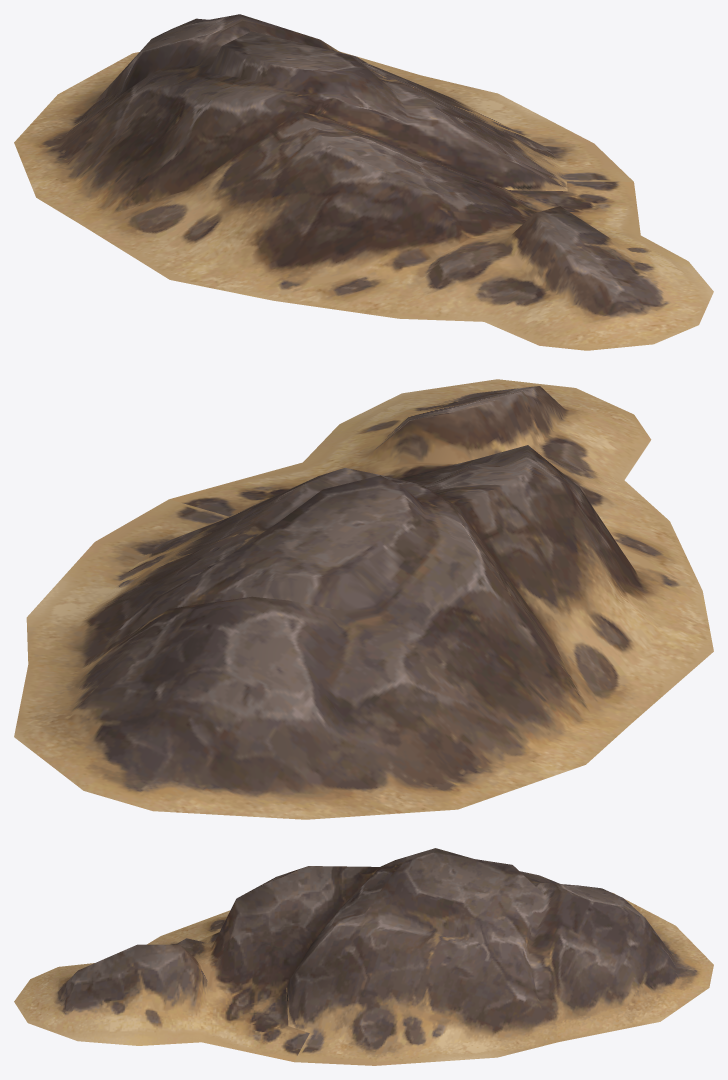
The model's file is xsm_shitou_6.FBX.
The picture shows the model from 3 angles, top to bottom: view 1: azimuth 30°, elevation 25°; view 2: azimuth 150°, elevation 25°; view 3: azimuth 270°, elevation 25°; orthographic projection. The views are drawn at different scales.
Parts seen in each view (by area): view 1: xsm_shitou_6; view 2: xsm_shitou_6; view 3: xsm_shitou_6.
Boxes of the visible parts, <box> form: xsm_shitou_6: <box>14,14,713,350</box>; xsm_shitou_6: <box>14,379,713,819</box>; xsm_shitou_6: <box>14,848,713,1065</box>.
Size of the model in its own units: 106 by 26.14 by 166.
